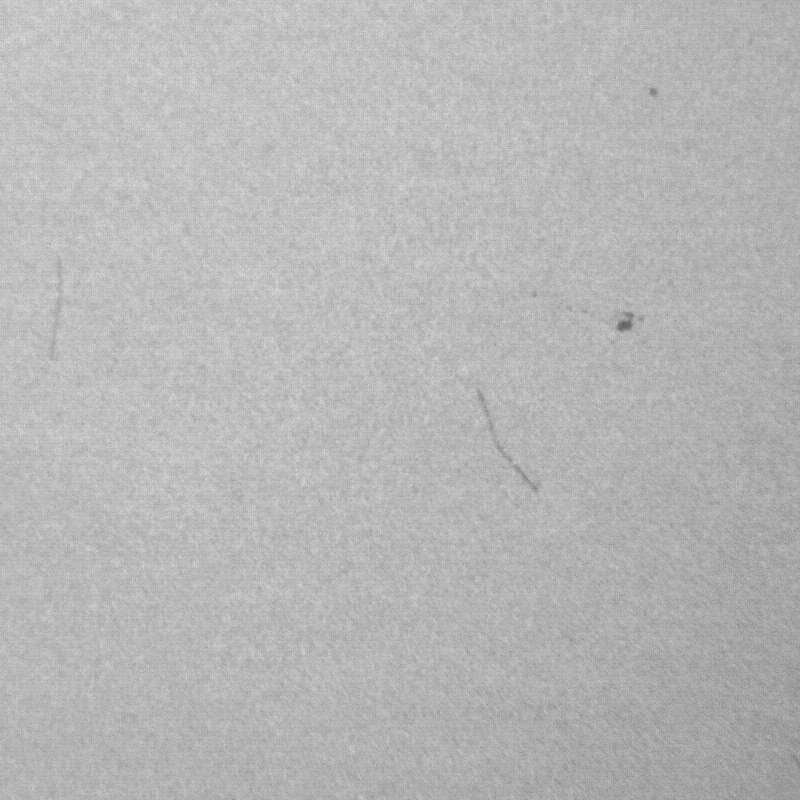defect: (476, 390, 541, 500), (49, 258, 64, 360), (612, 309, 645, 337), (640, 82, 666, 109)
